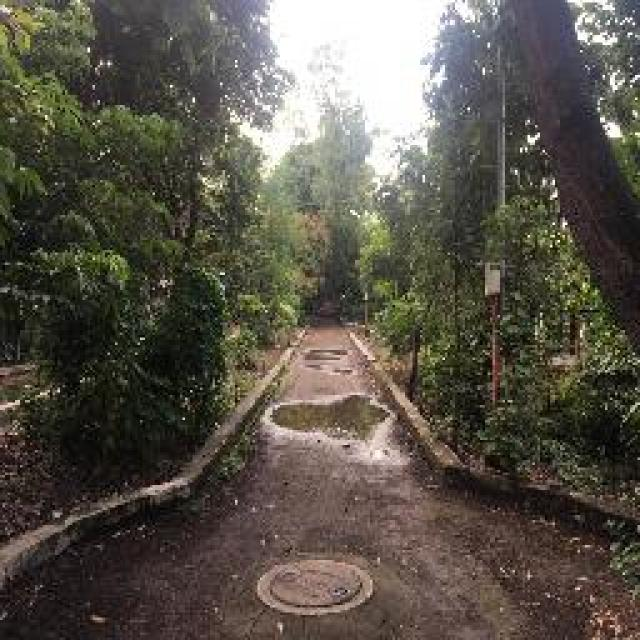puddle: (266, 389, 394, 441)
